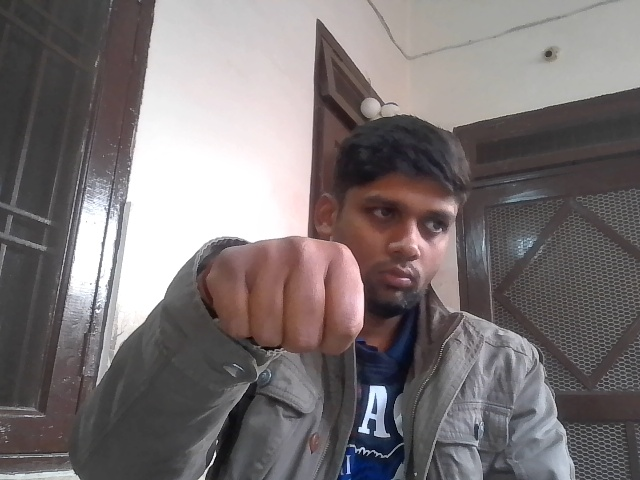Yes: (205, 221, 392, 374)
